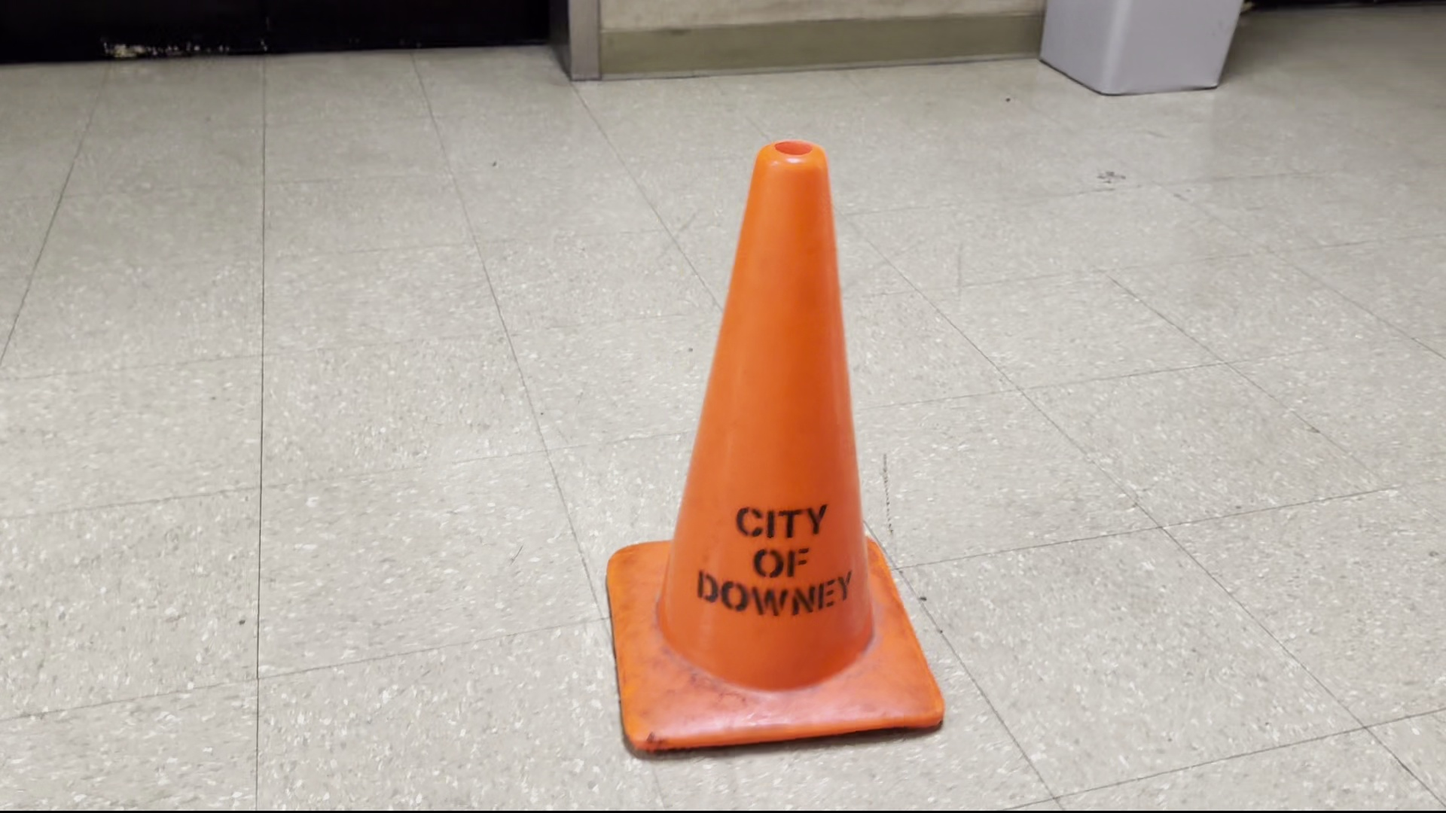traffic_cone: (605, 138, 946, 757)
